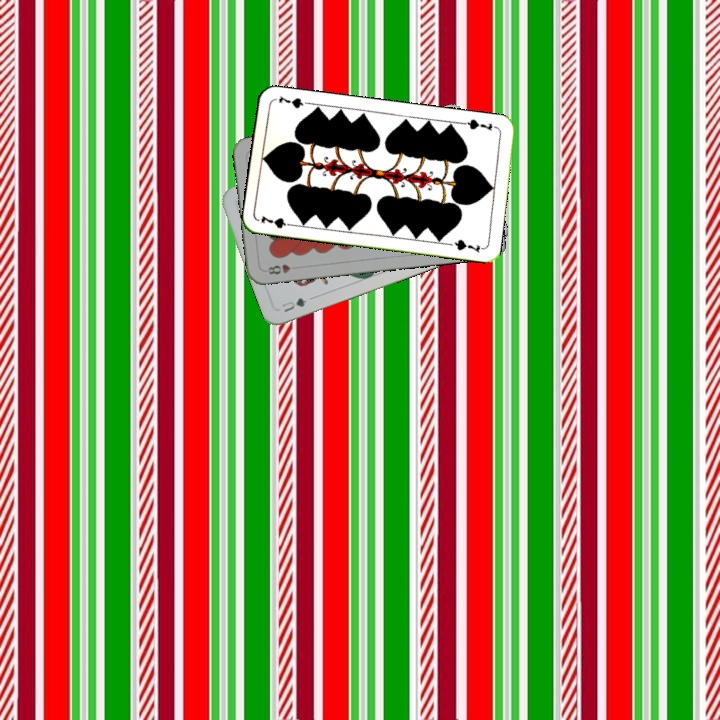G7: (257, 212, 297, 231), (459, 115, 500, 133)
GU: (277, 294, 309, 315)
H8: (264, 260, 302, 277)
